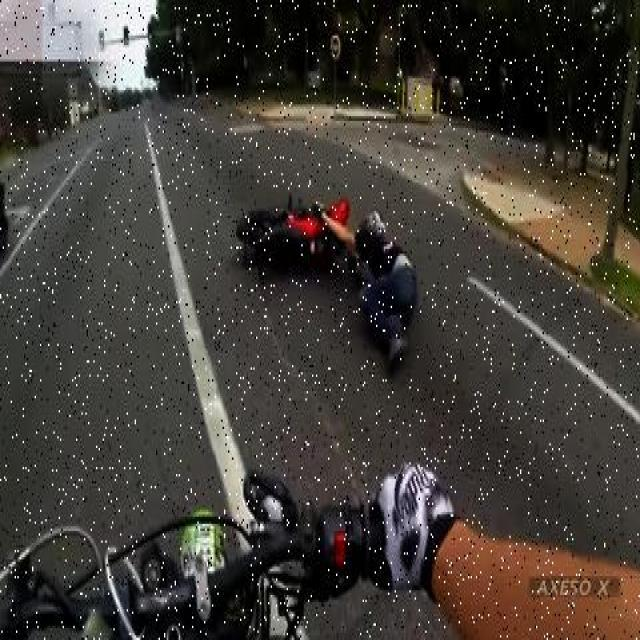fall: (324, 199, 421, 365)
